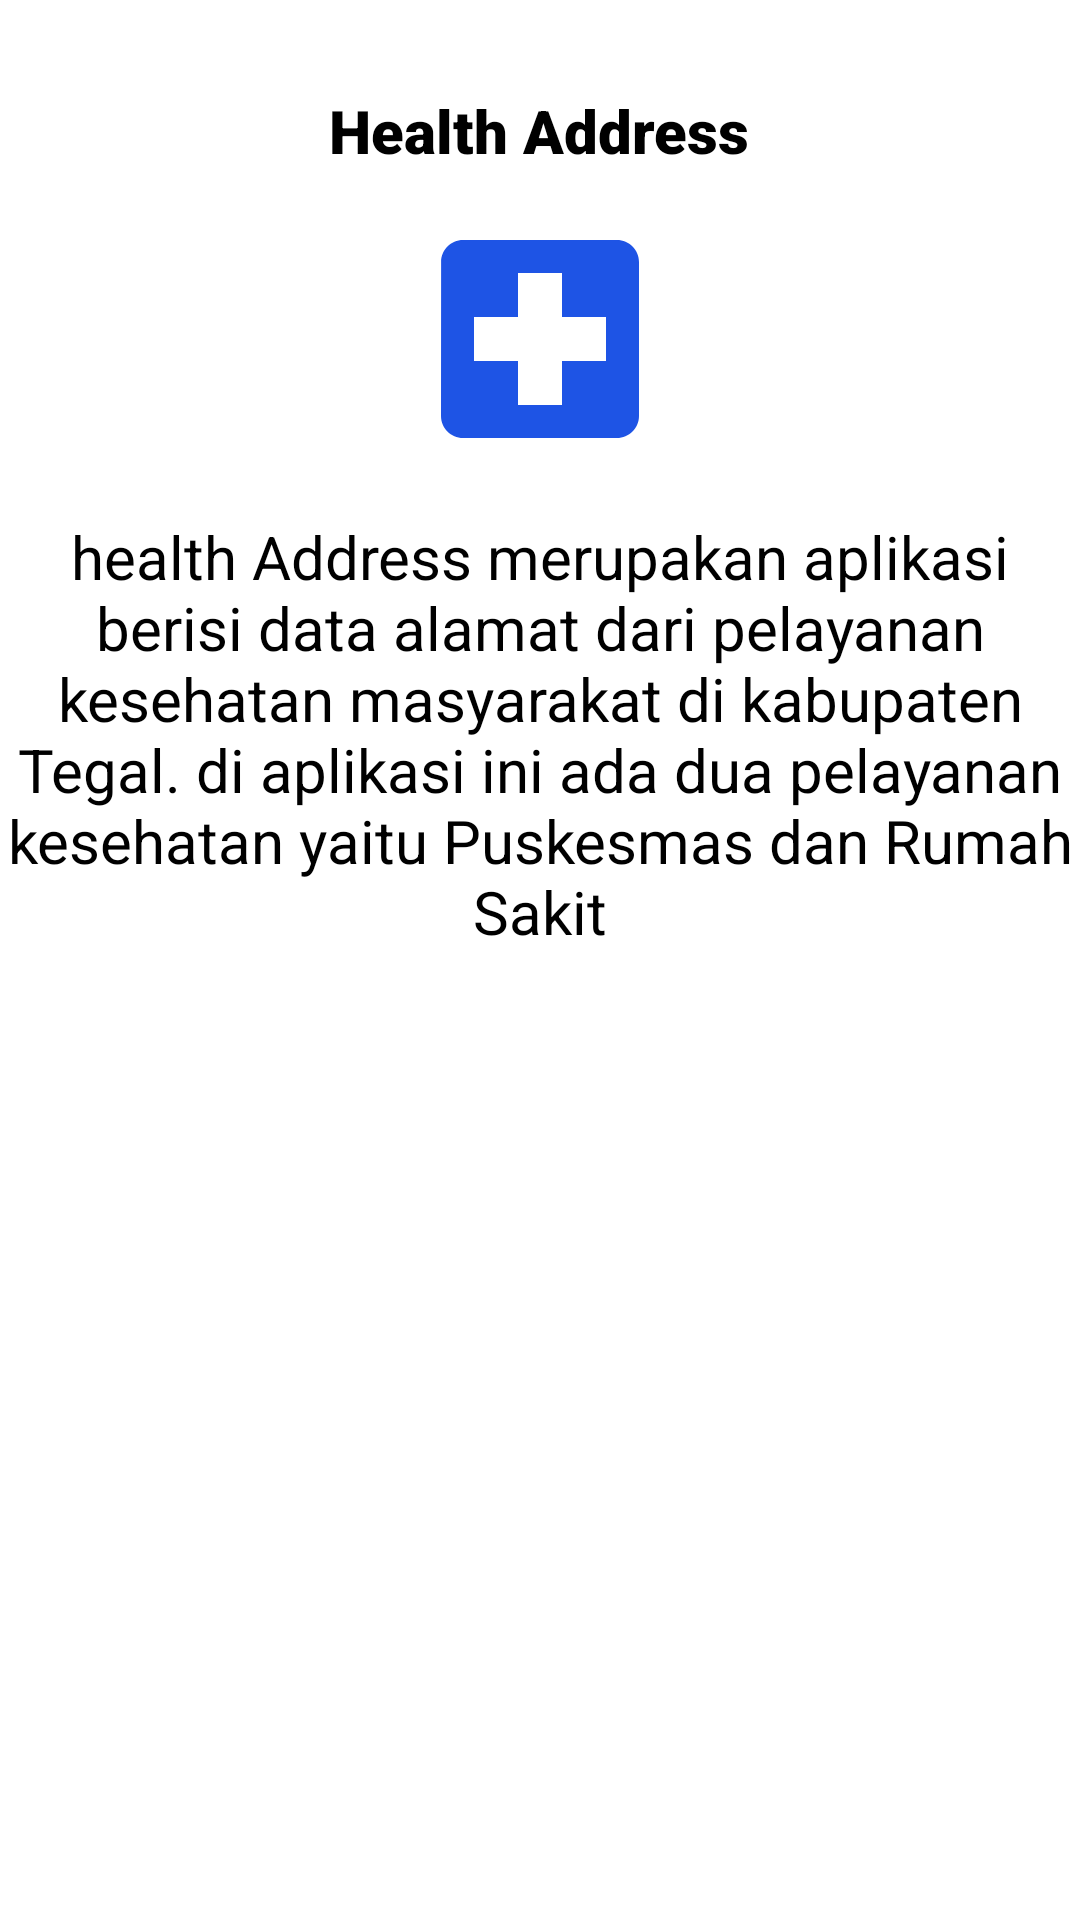

Icons on this 1080px×1920px Android screen, each with its box as (x1, y1, x2, y2):
palang: (441, 240, 639, 438)
